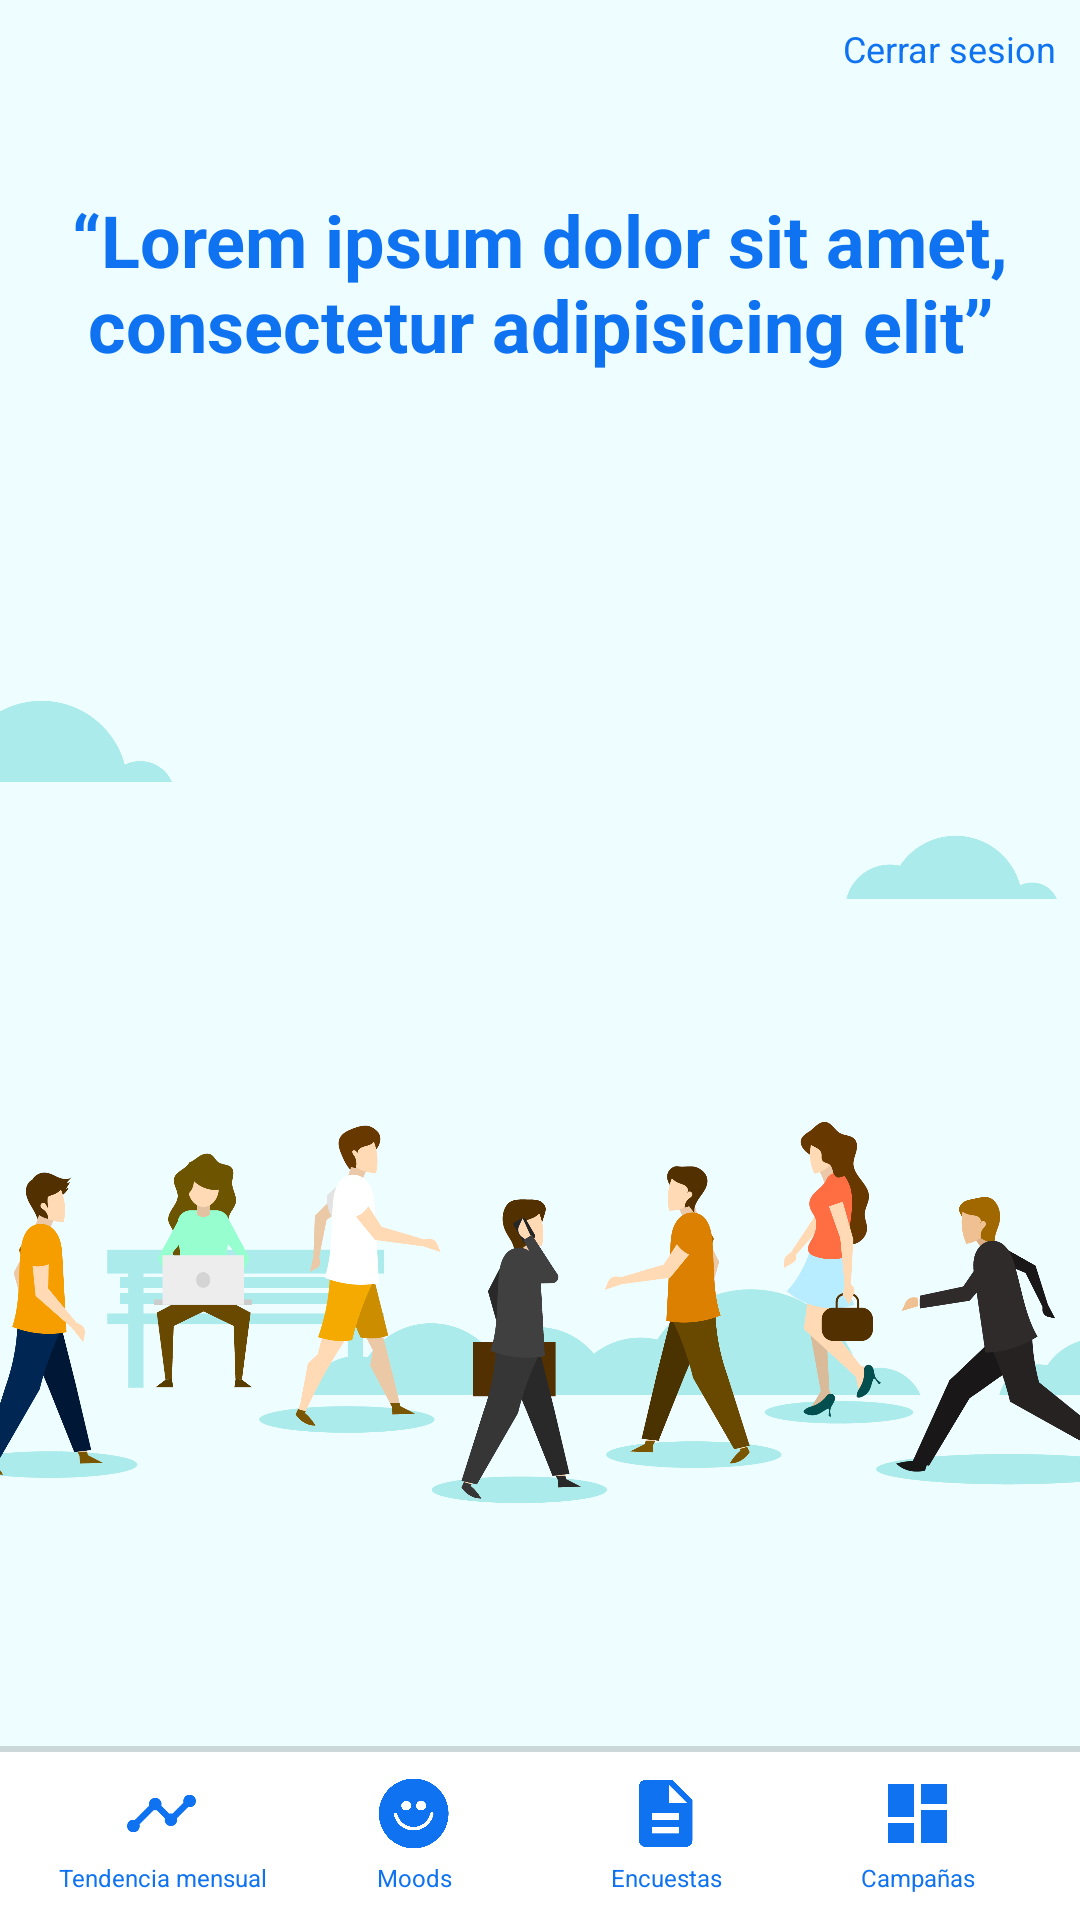

Icon click points for this 1080×1920 phone screenshot, format (x,y):
timeline: (161,1813)
